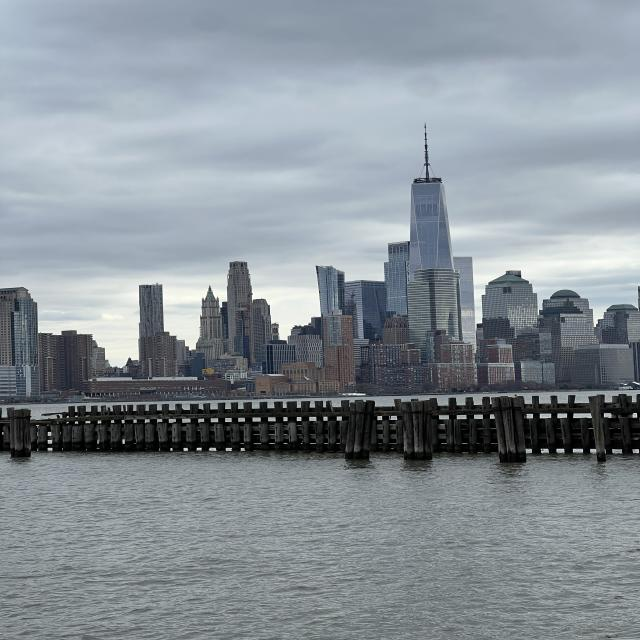WTC: (409, 122, 453, 268)
